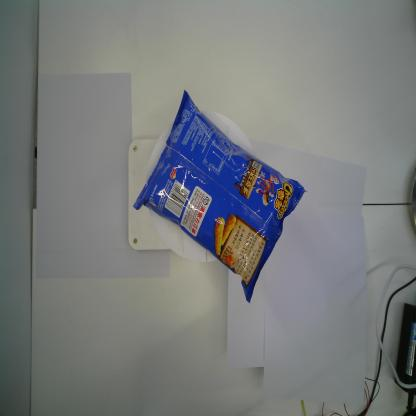Puffed Food: (131, 87, 307, 305)
